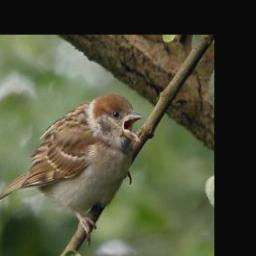Sparrow: (0, 90, 144, 246)
